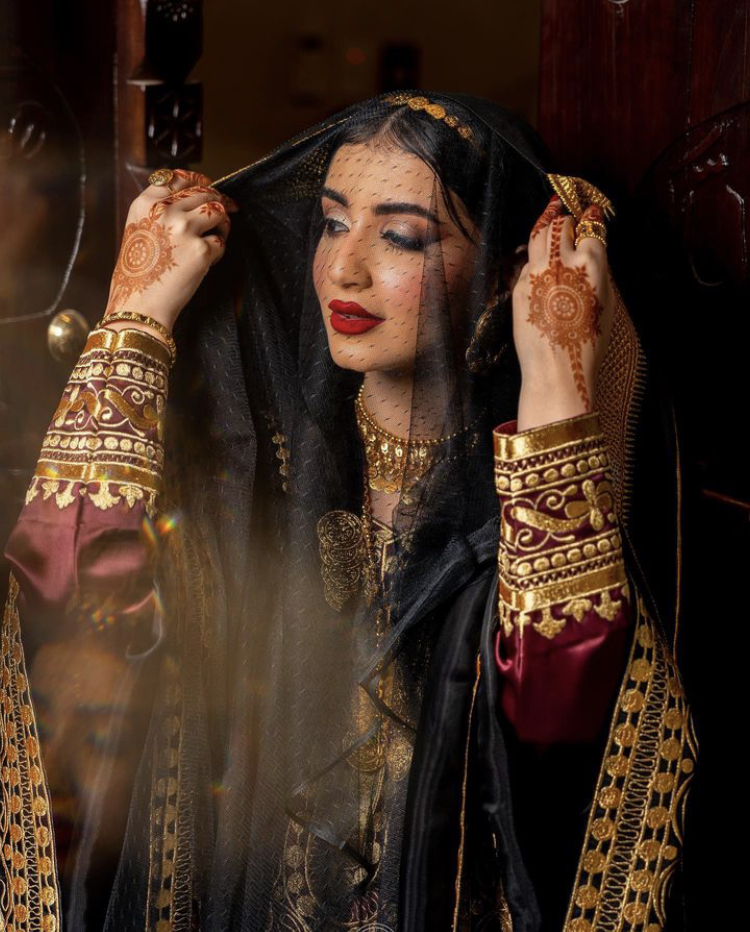Saudi_Founding_Day: (2, 85, 707, 932)
